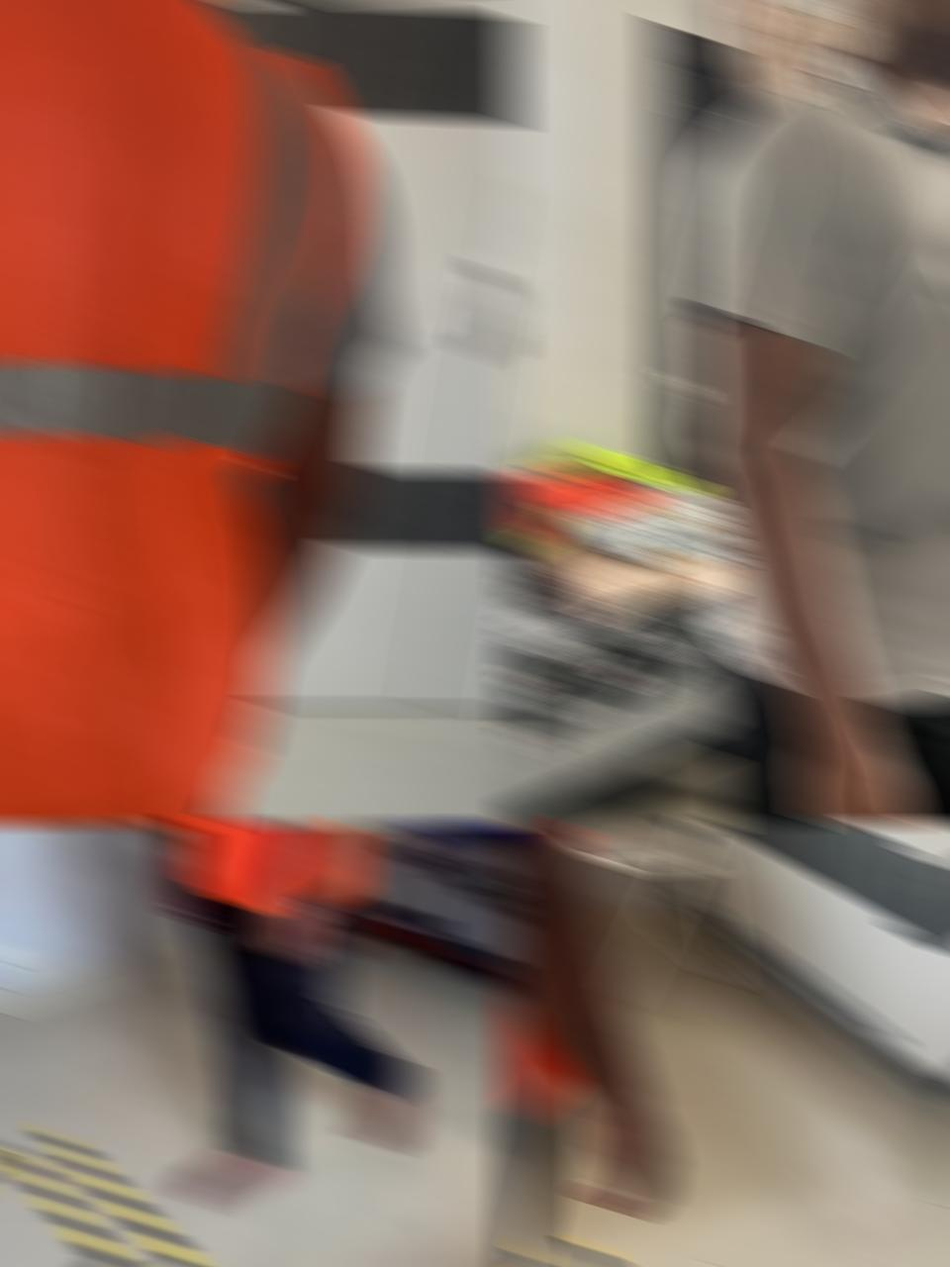BorderLine: (0, 1123, 324, 1267), (513, 1230, 694, 1267)
No_Helmet: (801, 0, 950, 91)
No_Vest: (683, 49, 950, 711)
Person: (0, 0, 404, 826), (681, 0, 950, 826), (159, 821, 422, 1209), (503, 821, 674, 1267)
Vest: (0, 0, 364, 826), (168, 821, 369, 911)
